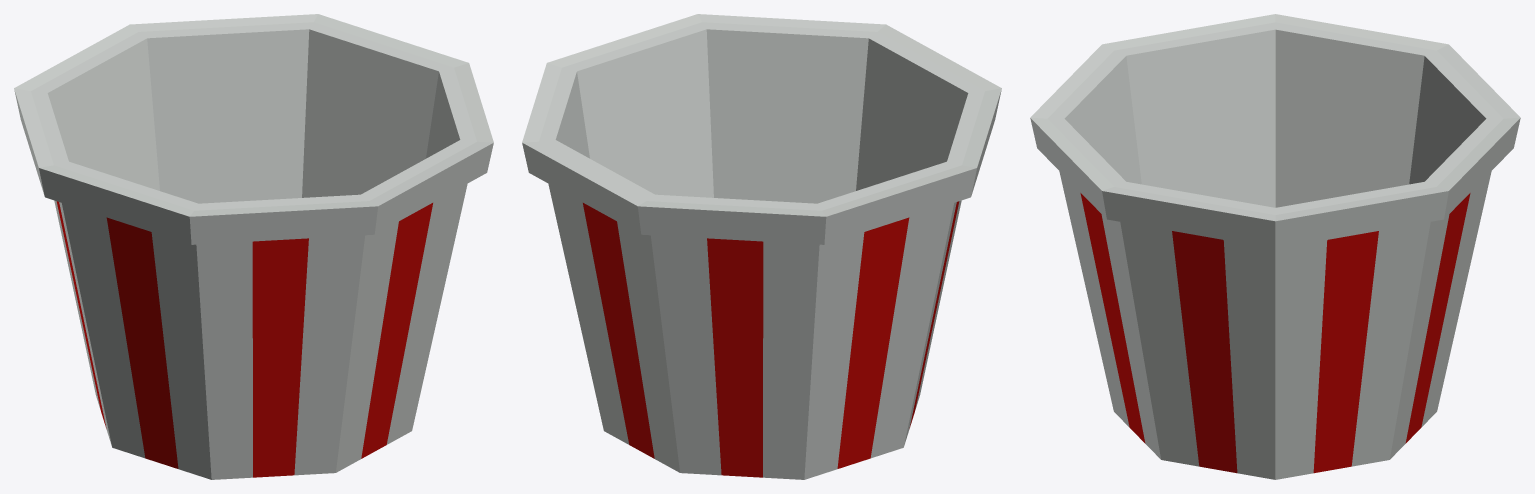
Rendered from Bucket Of Chicken.dae.
3 renders of one model, left to right at view 1: azimuth 30°, elevation 25°; view 2: azimuth 150°, elevation 25°; view 3: azimuth 270°, elevation 25°, orthographic.
Visible parts, largest first — view 1: Cylinder; view 2: Cylinder; view 3: Cylinder.
Boxes of the visible parts, x1,y1,x2,y2 form: Cylinder: [14, 14, 493, 479]; Cylinder: [522, 14, 1001, 479]; Cylinder: [1030, 14, 1520, 479].
Size of the model in its own units: 3.04 by 3.04 by 2.01.
